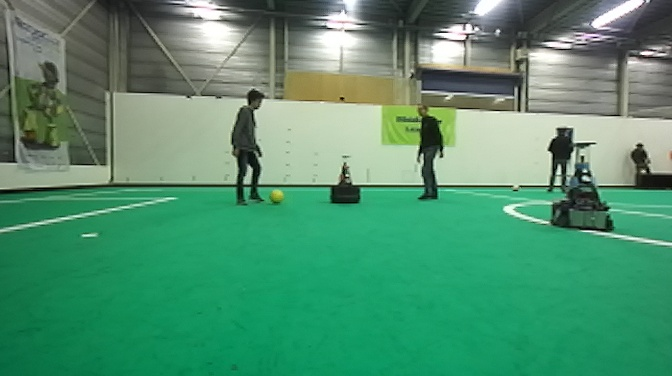ball: (269, 187, 287, 207), (509, 182, 521, 193)
human: (227, 89, 269, 207), (410, 101, 449, 201), (547, 126, 575, 193), (629, 138, 659, 187)
robot: (549, 140, 616, 233), (329, 152, 362, 206)
